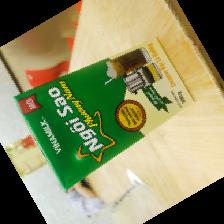NSPN_Hop: (12, 37, 195, 192)
